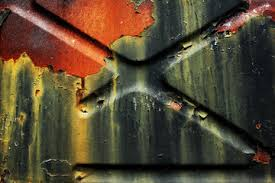rust: (1, 1, 162, 83), (207, 2, 271, 46), (249, 146, 272, 171)
